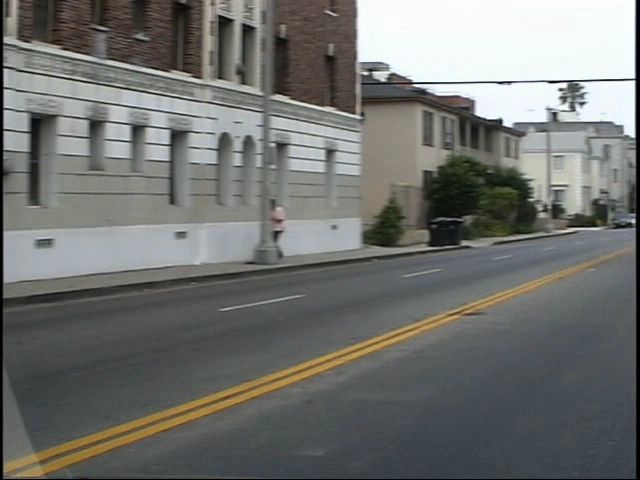person: (290, 190, 311, 262)
